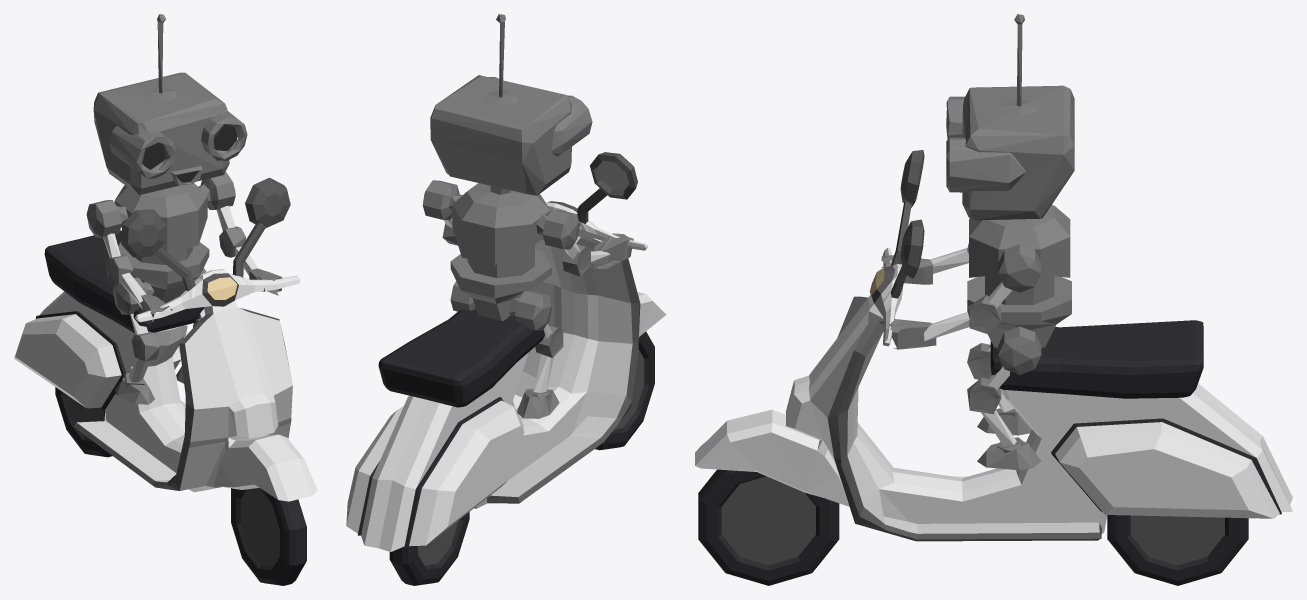
File: pnjscooter_1.glb
The picture shows the model from 3 angles, left to right: view 1: azimuth 30°, elevation 25°; view 2: azimuth 150°, elevation 25°; view 3: azimuth 270°, elevation 25°; orthographic projection. The views are drawn at different scales.
Parts seen in each view (by area): view 1: Robot; view 2: Robot; view 3: Robot.
Part boxes in pixels (box(x1,y1,x2,y2)): Robot: box(14, 14, 317, 585); Robot: box(346, 14, 666, 585); Robot: box(695, 14, 1292, 585).
Size of the model in its own units: 1.65 by 4.59 by 4.38.
Materials: 6 (1 with a texture image).
